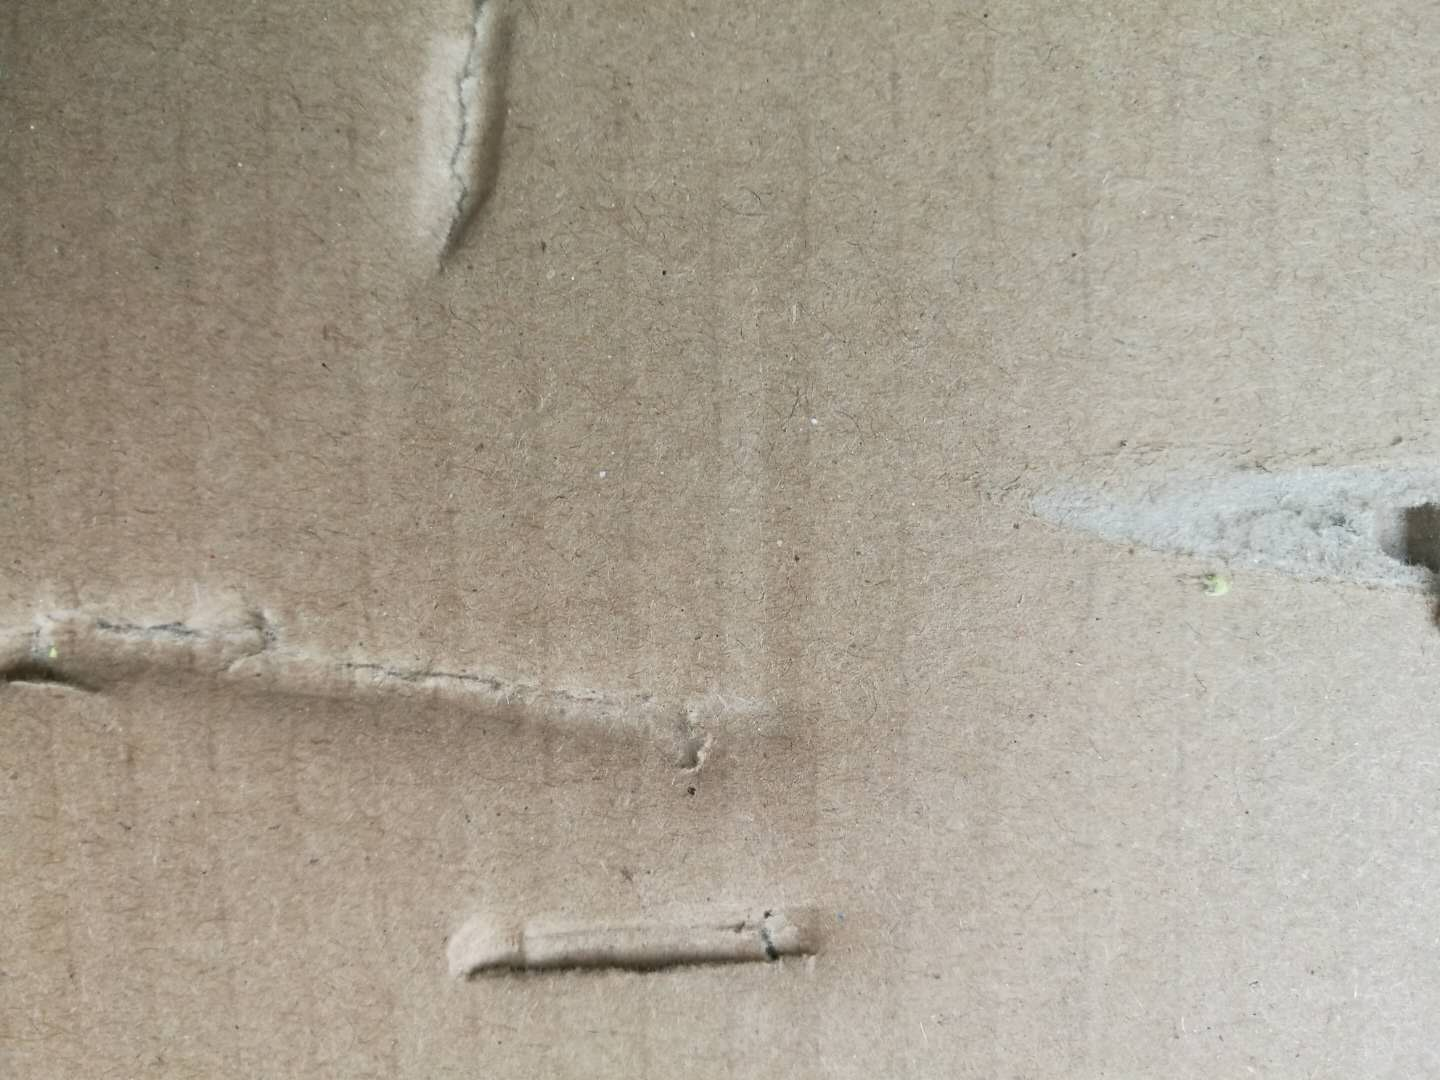defect: (3, 533, 880, 817), (989, 406, 1440, 670), (374, 3, 559, 311), (413, 872, 876, 994)
